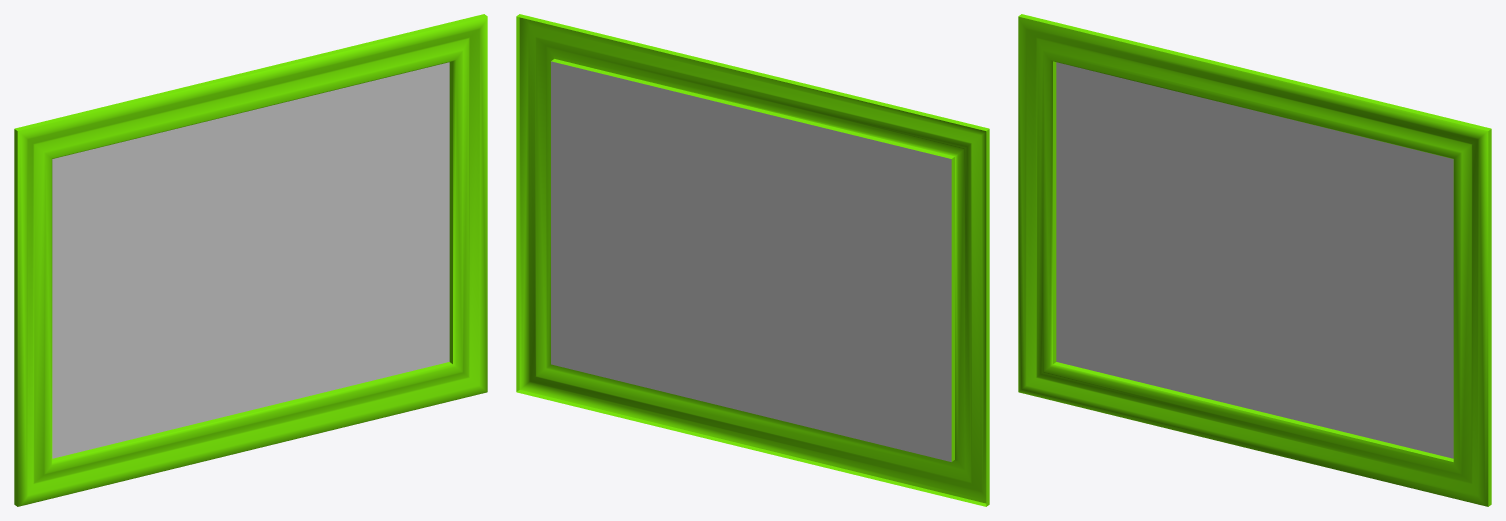
The model's file is painting_7_mesh.fbx.
3 views of the same model, side by side, from view 1: azimuth 30°, elevation 25°; view 2: azimuth 150°, elevation 25°; view 3: azimuth 330°, elevation 25° (orthographic).
Visible parts, largest first — view 1: painting; view 2: painting; view 3: painting.
Part boxes in pixels (left/top/right/bottom): painting: left=14, top=14, right=487, bottom=506; painting: left=516, top=14, right=989, bottom=506; painting: left=1018, top=14, right=1491, bottom=506.
Bounding box in the file's own units: 1.17 × 0.8956 × 0.02.
